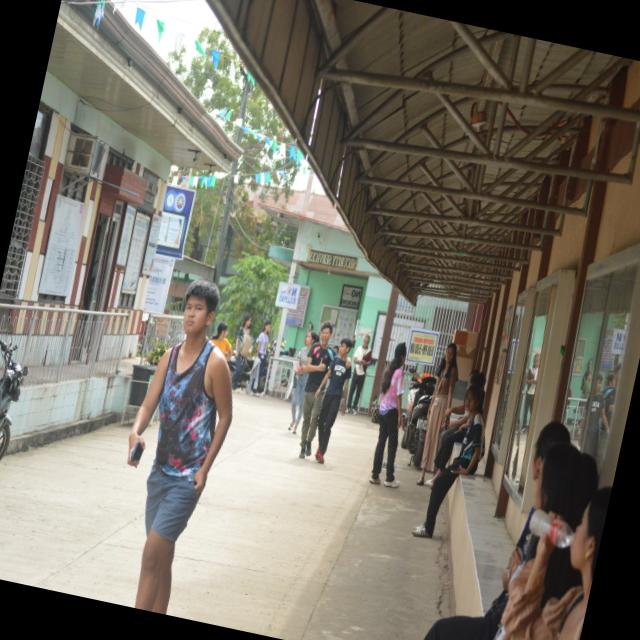person: (127, 279, 231, 612), (412, 385, 484, 538), (416, 343, 457, 486), (369, 343, 406, 487), (314, 338, 351, 463), (299, 322, 333, 458), (424, 590, 506, 639), (424, 404, 467, 487), (288, 331, 316, 433), (345, 335, 369, 414), (246, 320, 270, 394), (519, 353, 539, 433), (231, 314, 251, 390), (211, 322, 231, 360)
